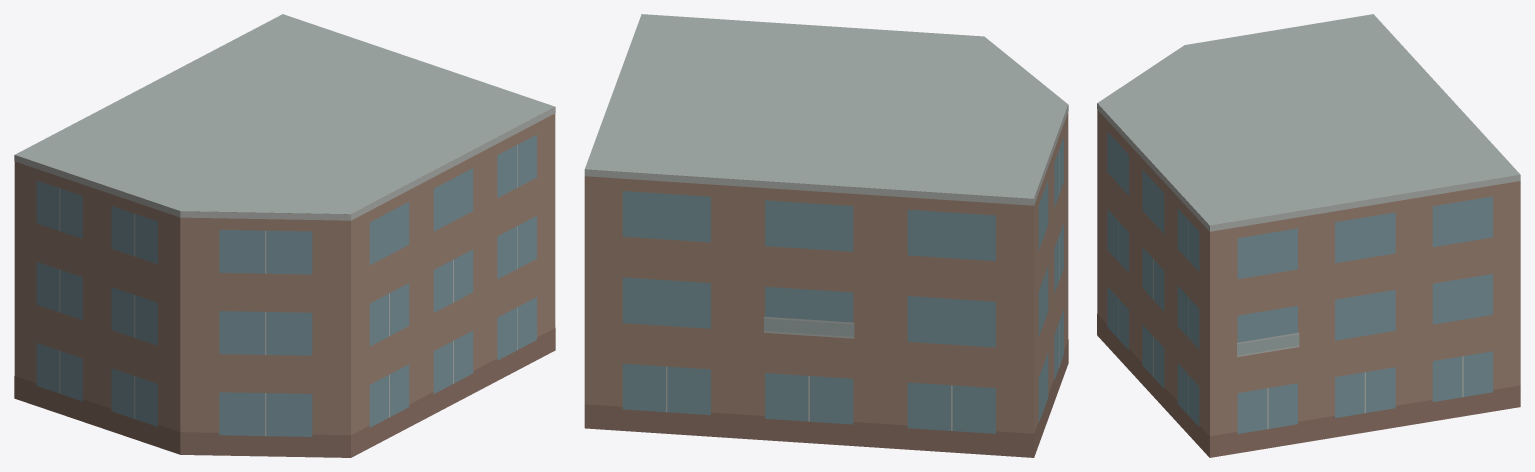
Rendered from residential-48ff3efa-939c-4595-9d36-981abd94d9f3.glb.
3 renders of one model, left to right at view 1: azimuth 30°, elevation 25°; view 2: azimuth 150°, elevation 25°; view 3: azimuth 270°, elevation 25°, orthographic. The views are drawn at different scales.
Visible parts, largest first — view 1: residential-48ff3efa-939c-4595-9d36-981abd94d9f3.tmp; view 2: residential-48ff3efa-939c-4595-9d36-981abd94d9f3.tmp; view 3: residential-48ff3efa-939c-4595-9d36-981abd94d9f3.tmp.
Boxes of the visible parts, x1=… form: residential-48ff3efa-939c-4595-9d36-981abd94d9f3.tmp: x1=14, y1=14, x2=555, y2=457; residential-48ff3efa-939c-4595-9d36-981abd94d9f3.tmp: x1=584, y1=14, x2=1068, y2=457; residential-48ff3efa-939c-4595-9d36-981abd94d9f3.tmp: x1=1097, y1=14, x2=1520, y2=457.
Size of the model in its own units: 17.89 by 9.15 by 15.13.
